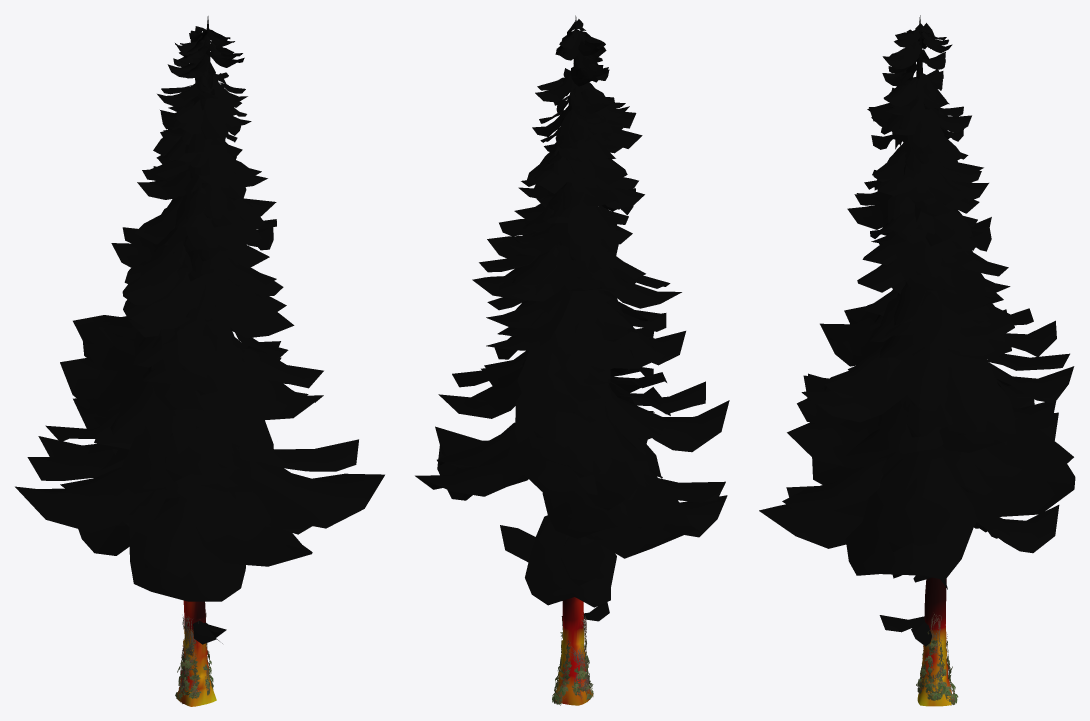
File: SM_Spruce_Tall.fbx
3 views of the same model, side by side, from view 1: azimuth 30°, elevation 25°; view 2: azimuth 150°, elevation 25°; view 3: azimuth 270°, elevation 25° (orthographic).
Visible parts, largest first — view 1: SM_Spruce_Tall_LOD0; view 2: SM_Spruce_Tall_LOD0; view 3: SM_Spruce_Tall_LOD0.
Part boxes in pixels (x1,y1,x2,y2): SM_Spruce_Tall_LOD0: (15, 16, 384, 706); SM_Spruce_Tall_LOD0: (415, 15, 729, 705); SM_Spruce_Tall_LOD0: (759, 15, 1075, 706).
Bounding box in the file's own units: 742 × 647 × 1554.
